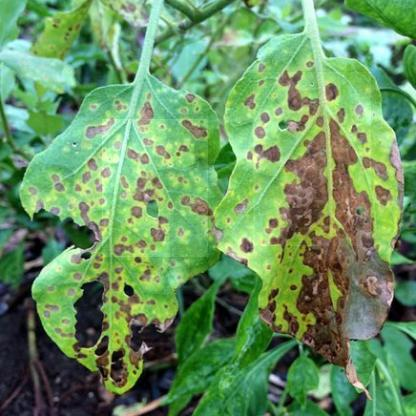black-spot: (253, 72, 371, 246), (102, 119, 208, 257)
